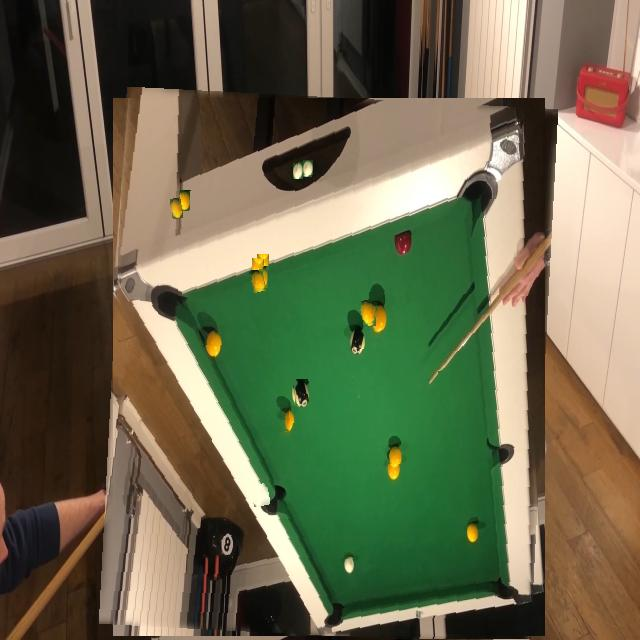Ball: (251, 483, 270, 507), (274, 404, 289, 432), (294, 381, 309, 407), (438, 371, 452, 397), (360, 300, 375, 324), (250, 270, 265, 292), (170, 198, 183, 219), (252, 258, 264, 275), (293, 162, 303, 179)
Billiard table: (106, 92, 551, 640)
